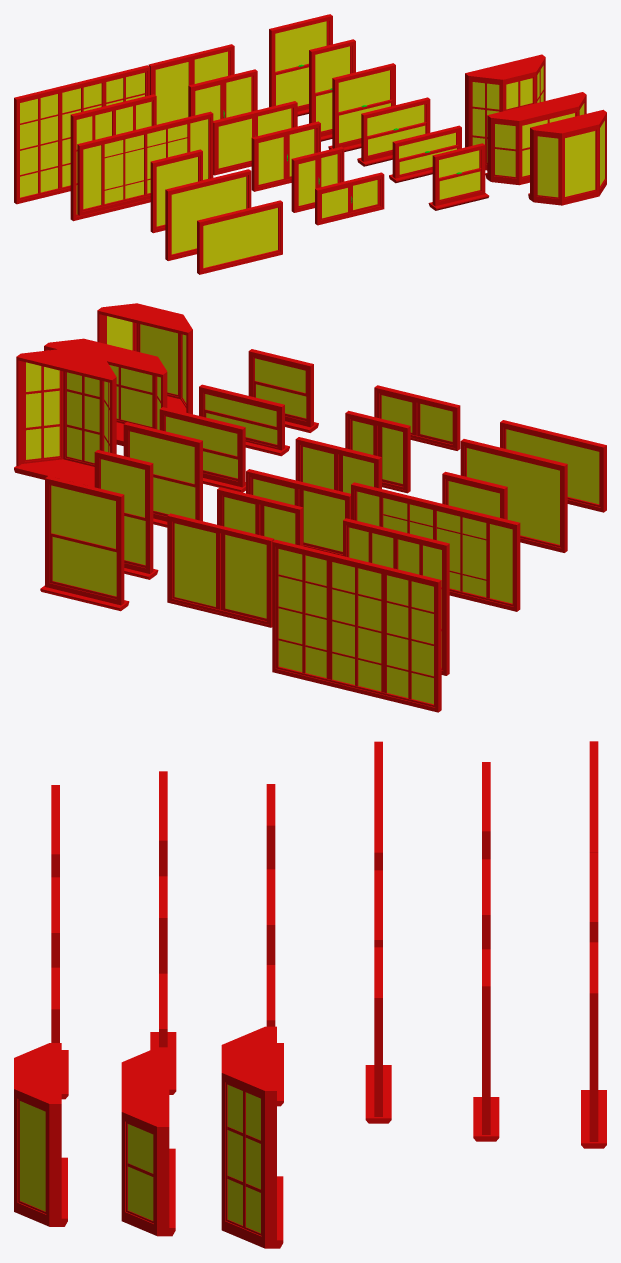
File: MT_windows_grp.fbx
3 views of the same model, one above another, from view 1: azimuth 30°, elevation 25°; view 2: azimuth 150°, elevation 25°; view 3: azimuth 270°, elevation 25° (orthographic). The views are drawn at different scales.
Parts seen in each view (by area): view 1: window_fixed_96x72, window_fixed_96x48, window_bay_1, window_fixed_60x36, window_bay_3, window_bay_2, window_fixed_60x48, window_hung_60x44, window_hung_48x44, window_slider_60x48, window_fixed_60x72, window_slider_60x36 (+9 smaller); view 2: window_fixed_96x72, window_bay_3, window_fixed_96x48, window_slider_60x48, window_hung_60x44, window_fixed_60x48, window_bay_1, window_hung_48x44, window_fixed_60x72, window_bay_2, window_hung_60x32, window_fixed_60x36 (+9 smaller); view 3: window_bay_3, window_bay_2, window_bay_1, window_hung_60x44, window_hung_48x44, window_hung_60x32, window_hung_48x24, window_fixed_96x48, window_fixed_96x72, window_hung_36x32, window_hung_48x32, window_slider_48x36 (+9 smaller).
Part boxes in pixels (left/top/right/bottom): window_fixed_96x72: left=14, top=65, right=149, bottom=204; window_fixed_96x48: left=77, top=111, right=213, bottom=215; window_bay_1: left=528, top=109, right=606, bottom=205; window_fixed_60x36: left=197, top=200, right=282, bottom=274; window_bay_3: left=465, top=54, right=545, bottom=170; window_bay_2: left=485, top=92, right=586, bottom=185; window_fixed_60x48: left=165, top=169, right=251, bottom=260; window_hung_60x44: left=269, top=14, right=332, bottom=116; window_hung_48x44: left=328, top=63, right=395, bottom=151; window_slider_60x48: left=148, top=44, right=234, bottom=124; window_fixed_60x72: left=70, top=94, right=156, bottom=221; window_slider_60x36: left=213, top=101, right=297, bottom=175; window_fixed_96x72: left=272, top=539, right=441, bottom=712; window_bay_3: left=14, top=348, right=116, bottom=487; window_fixed_96x48: left=351, top=482, right=520, bottom=611; window_slider_60x48: left=167, top=513, right=274, bottom=627; window_hung_60x44: left=40, top=476, right=129, bottom=611; window_fixed_60x48: left=460, top=439, right=567, bottom=552; window_bay_1: left=97, top=303, right=192, bottom=414; window_hung_48x44: left=123, top=422, right=202, bottom=527; window_fixed_60x72: left=343, top=518, right=449, bottom=675; window_bay_2: left=44, top=338, right=167, bottom=445; window_hung_60x32: left=94, top=450, right=158, bottom=579; window_fixed_60x36: left=500, top=420, right=606, bottom=512; window_bay_3: left=221, top=1026, right=283, bottom=1248; window_bay_2: left=121, top=1047, right=175, bottom=1236; window_bay_1: left=14, top=1043, right=67, bottom=1226; window_hung_60x44: left=581, top=942, right=606, bottom=1148; window_hung_48x44: left=365, top=947, right=391, bottom=1123; window_hung_60x32: left=473, top=949, right=499, bottom=1141; window_hung_48x24: left=150, top=973, right=176, bottom=1094; window_fixed_96x48: left=374, top=741, right=382, bottom=870; window_fixed_96x72: left=589, top=741, right=598, bottom=852; window_hung_36x32: left=51, top=967, right=68, bottom=1099; window_hung_48x32: left=266, top=965, right=283, bottom=1106; window_slider_48x36: left=266, top=869, right=275, bottom=964.
Size of the model in its own units: 809 by 194 by 551.
